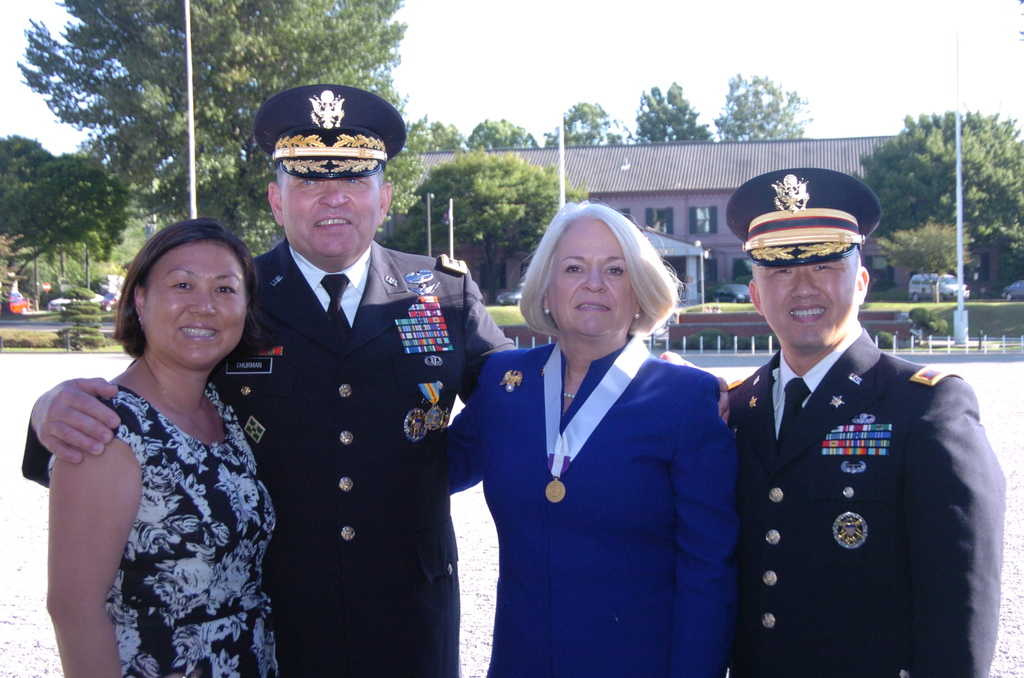Human-face: (140, 247, 248, 367), (550, 214, 634, 332), (762, 262, 858, 347), (281, 176, 378, 254)
